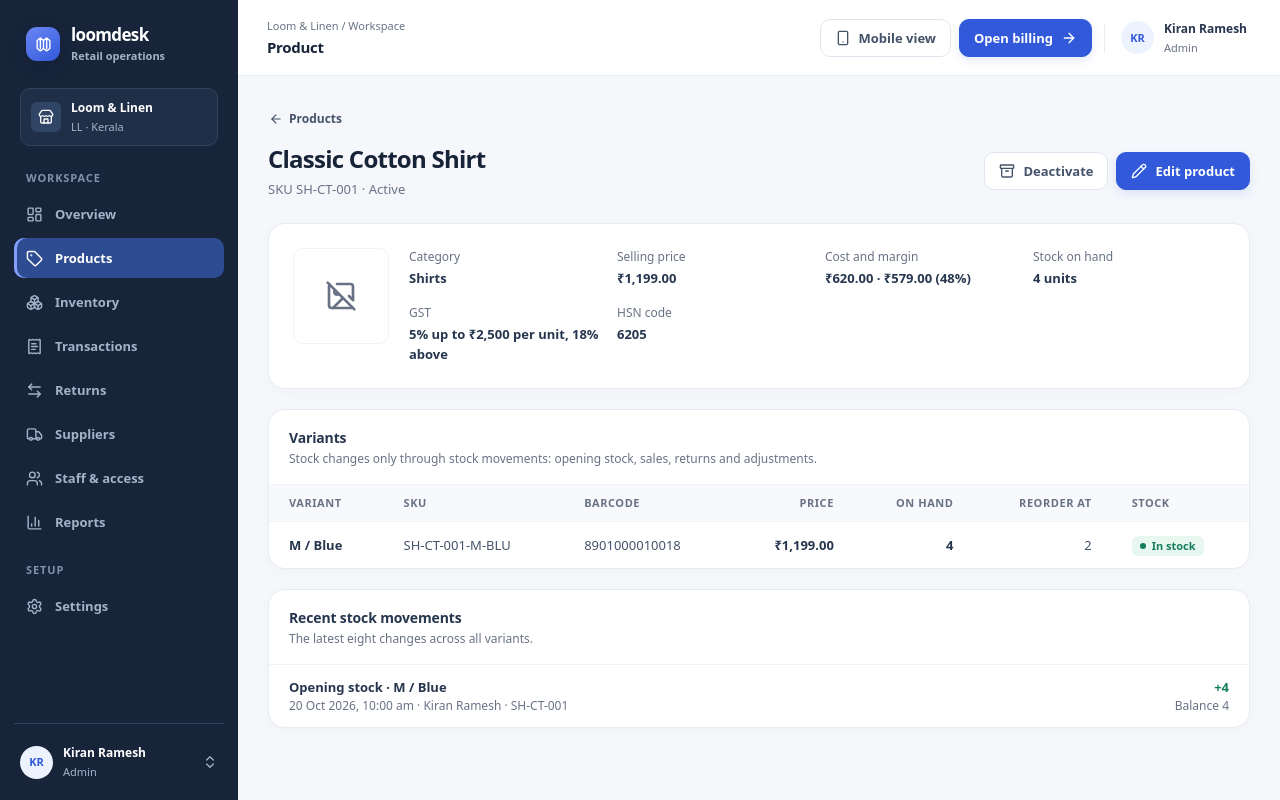
Test: product detail › deactivates only after confirmation
Click the button "Deactivate" at (1046, 171), box x1=984 y1=152 x2=1108 y2=190
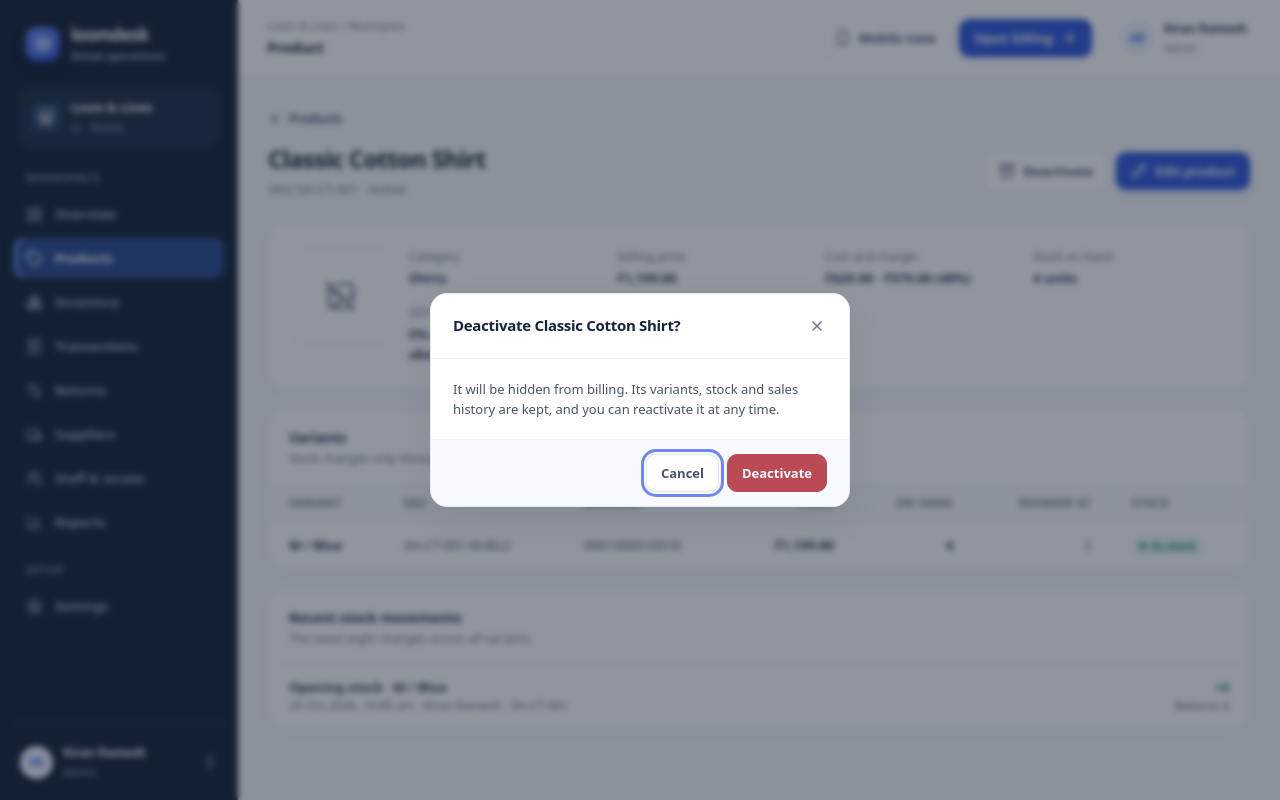
Click the button "Cancel" at (682, 473), box x1=646 y1=454 x2=719 y2=492
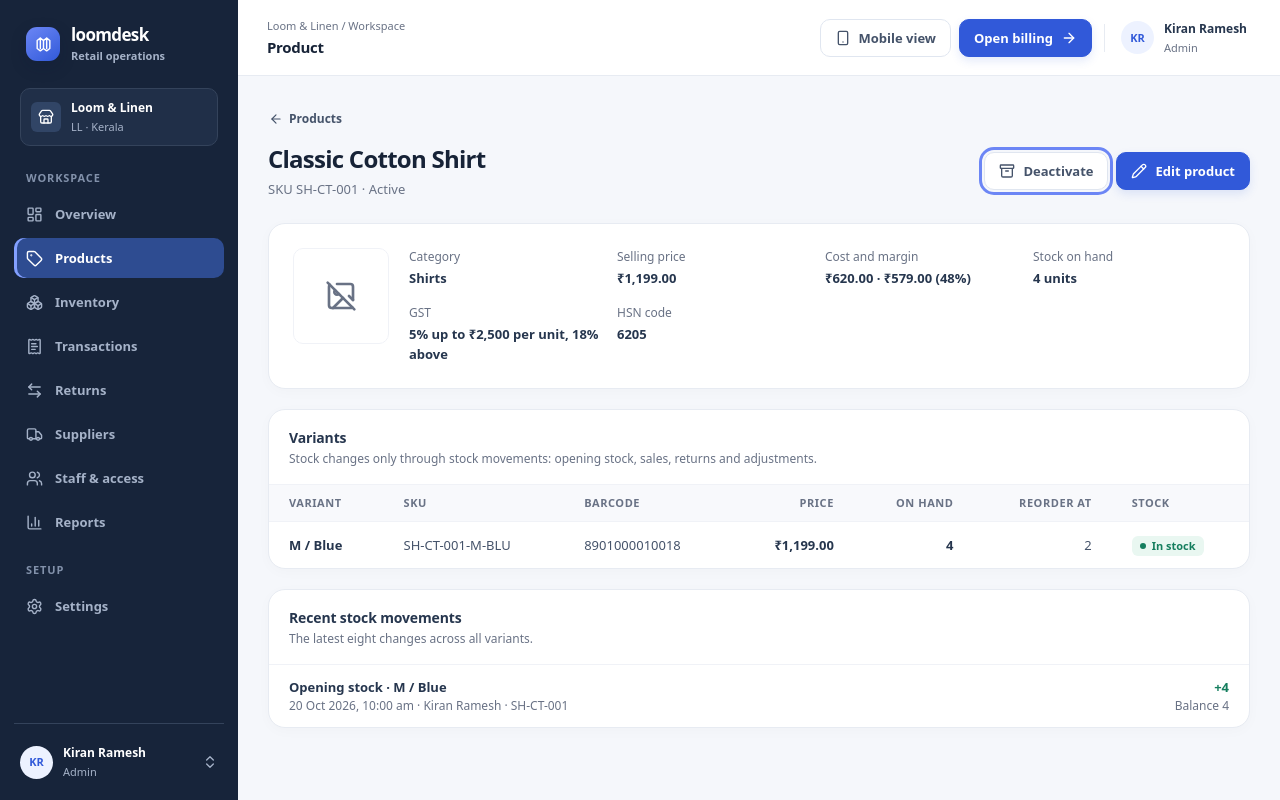
Click the button "Deactivate" at (1046, 171), box x1=984 y1=152 x2=1108 y2=190
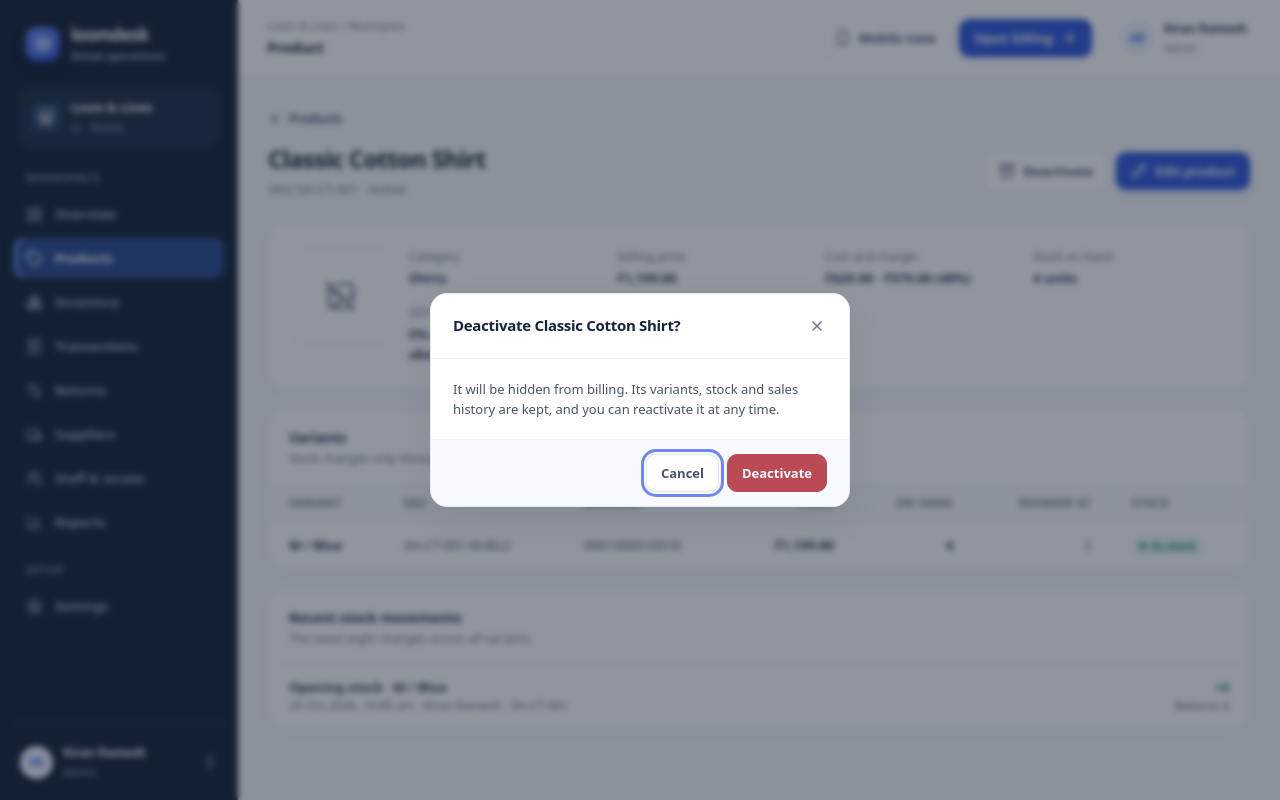
Click the button "Deactivate" at (777, 473), box x1=727 y1=454 x2=827 y2=492
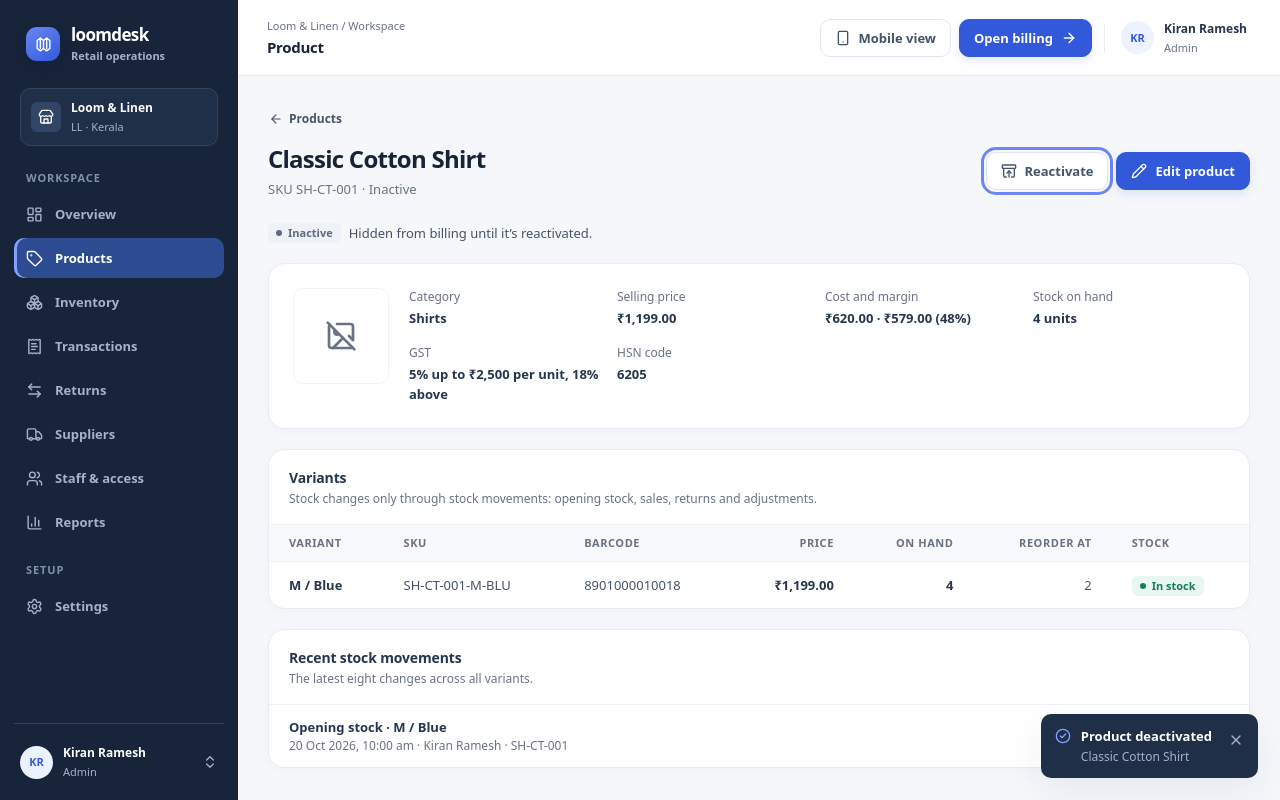
Expected: the button "Reactivate" is shown, x1=986 y1=152 x2=1108 y2=190
